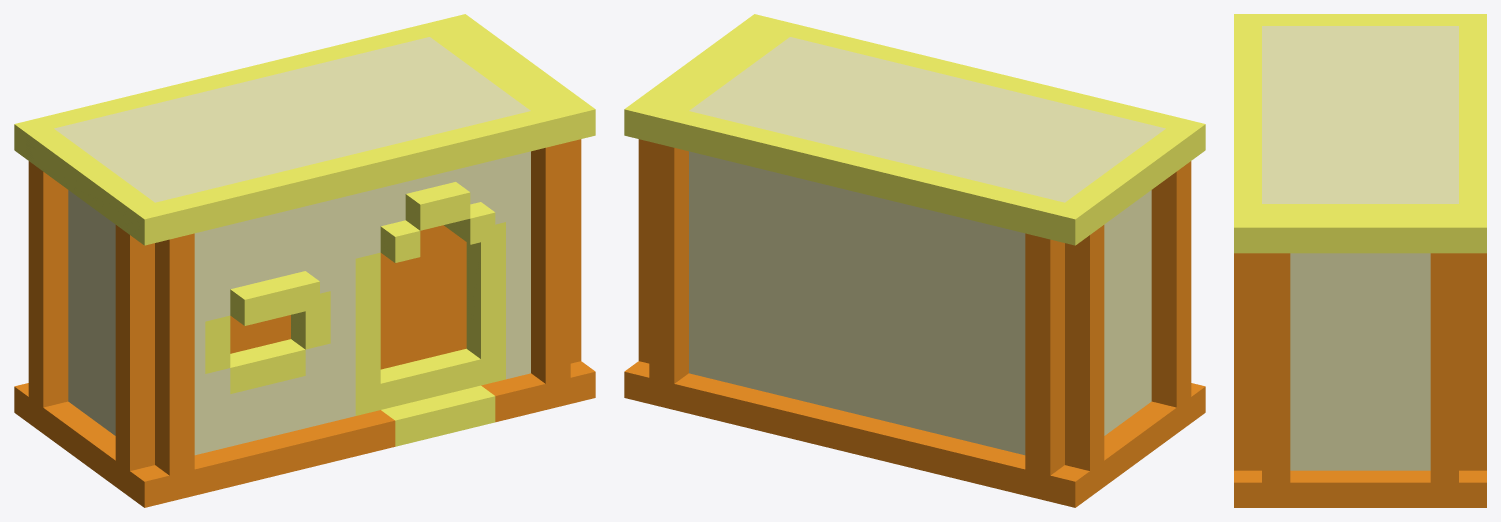
Rendered from dodai_madoAri.obj.
3 renders of one model, left to right at view 1: azimuth 30°, elevation 25°; view 2: azimuth 150°, elevation 25°; view 3: azimuth 270°, elevation 25°, orthographic. The views are drawn at different scales.
Visible parts, largest first — view 1: dodai_madoAri; view 2: dodai_madoAri; view 3: dodai_madoAri.
Part boxes in pixels (x1,y1,x2,y2): dodai_madoAri: [14, 14, 595, 507]; dodai_madoAri: [624, 14, 1205, 507]; dodai_madoAri: [1234, 14, 1486, 507].
Size of the model in its own units: 18 by 11 by 9.
1 material, 1 textured.
